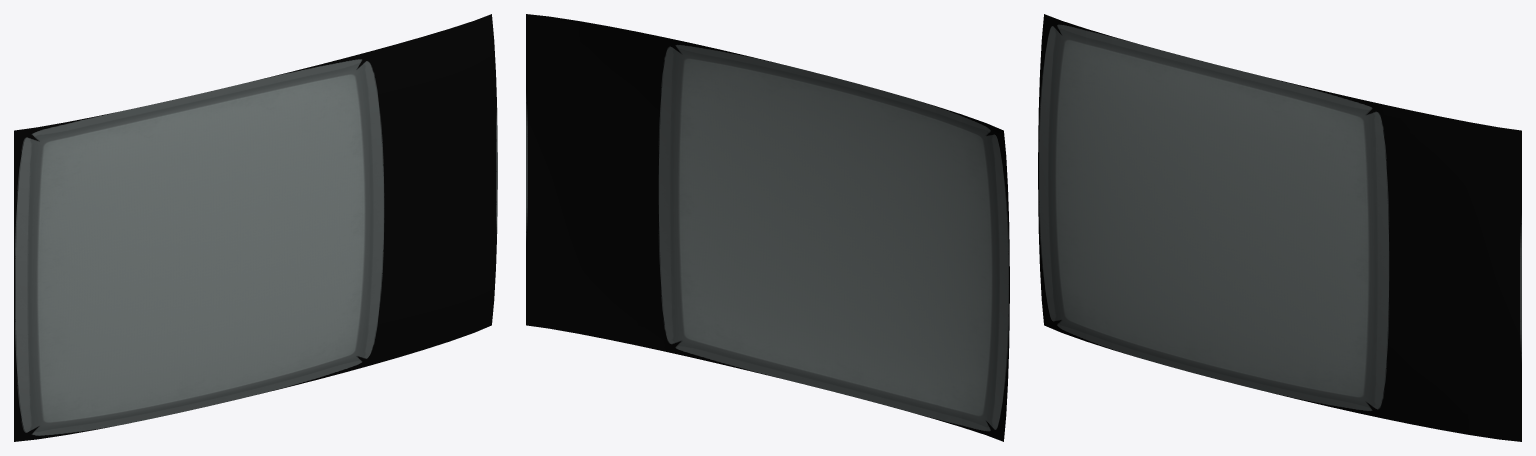
File: commodore64_monitor_1702_320x200_display_area.fbx
The picture shows the model from 3 angles, left to right: view 1: azimuth 30°, elevation 25°; view 2: azimuth 150°, elevation 25°; view 3: azimuth 330°, elevation 25°; orthographic projection.
Parts seen in each view (by area): view 1: DisplayArea; view 2: DisplayArea; view 3: DisplayArea.
Boxes of the visible parts, <box> form: DisplayArea: <box>14,14,497,441</box>; DisplayArea: <box>526,14,1009,441</box>; DisplayArea: <box>1038,14,1521,441</box>.
Bounding box in the file's own units: 32.2 × 20 × 1.65.
